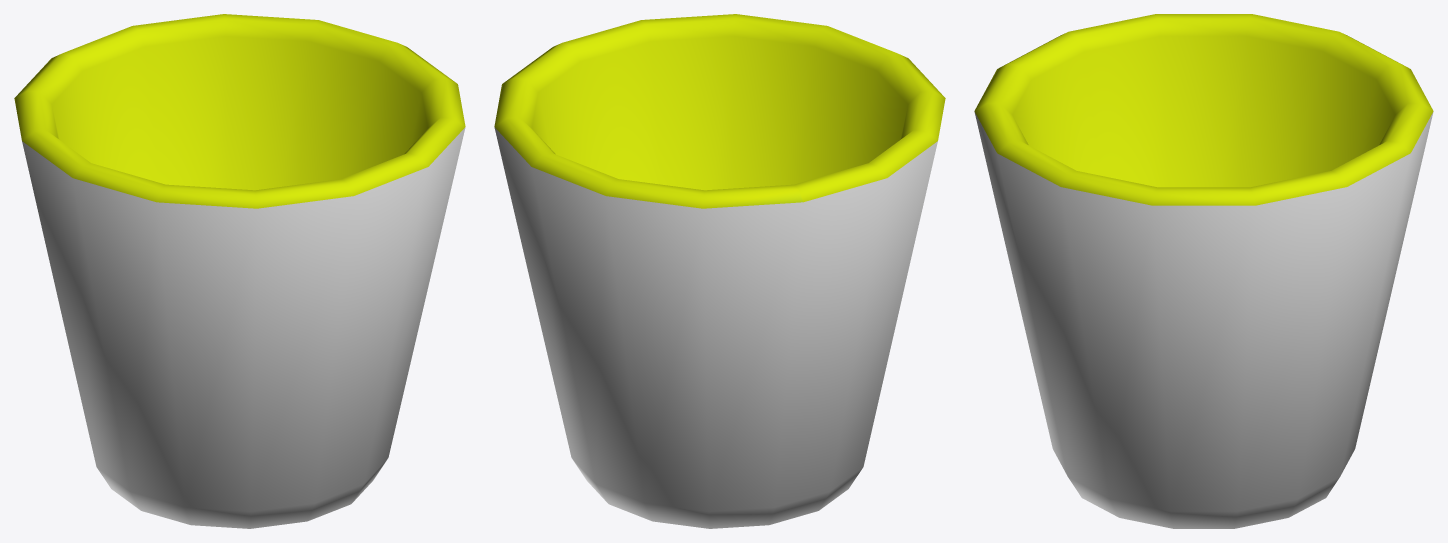
The model's file is Yellow_cup.fbx.
The picture shows the model from 3 angles, left to right: view 1: azimuth 30°, elevation 25°; view 2: azimuth 150°, elevation 25°; view 3: azimuth 270°, elevation 25°; orthographic projection.
Visible parts, largest first — view 1: Yellow_cup; view 2: Yellow_cup; view 3: Yellow_cup.
Boxes of the visible parts, x1=… form: Yellow_cup: x1=14, y1=14, x2=465, y2=528; Yellow_cup: x1=494, y1=14, x2=945, y2=528; Yellow_cup: x1=974, y1=14, x2=1433, y2=528.
Size of the model in its own units: 0.0274 by 0.0249 by 0.0281.
Materials: 1 (1 with a texture image).
